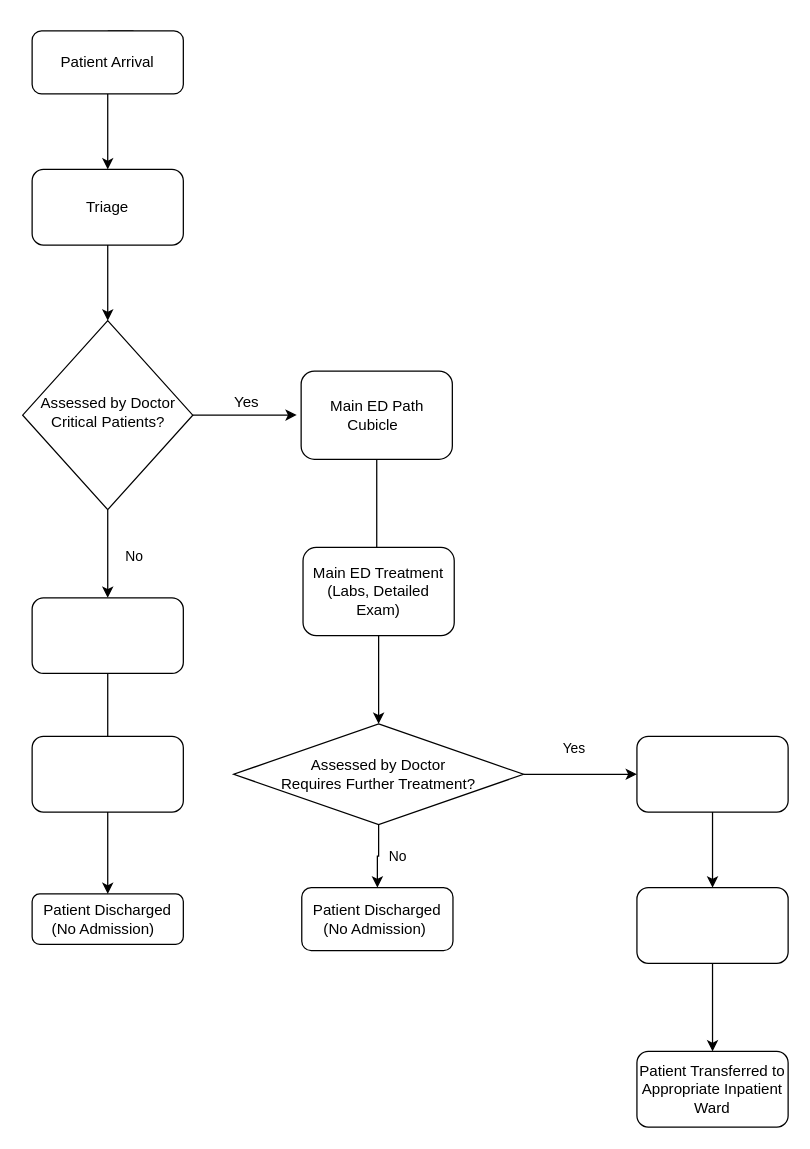
This 810x1149 diagram has some shape labels left out. The centre of each missing label's shape, as x and y in pixels:
Bed Hold in ED (Waiting for Transfer): [712,924]
Fast Track Path (Short Exam/No Labs): [107,635]
Patient Admitted (Admission to Hospital): [712,773]
Temporary Holding Area: [107,773]
